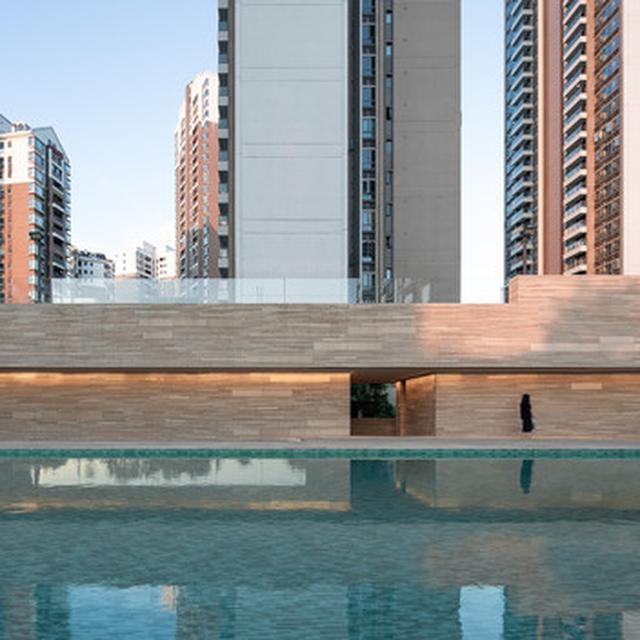building: (0, 298, 640, 465), (212, 0, 460, 306), (502, 0, 639, 277), (0, 112, 70, 302), (166, 67, 222, 293), (116, 238, 168, 304), (69, 239, 114, 300)
